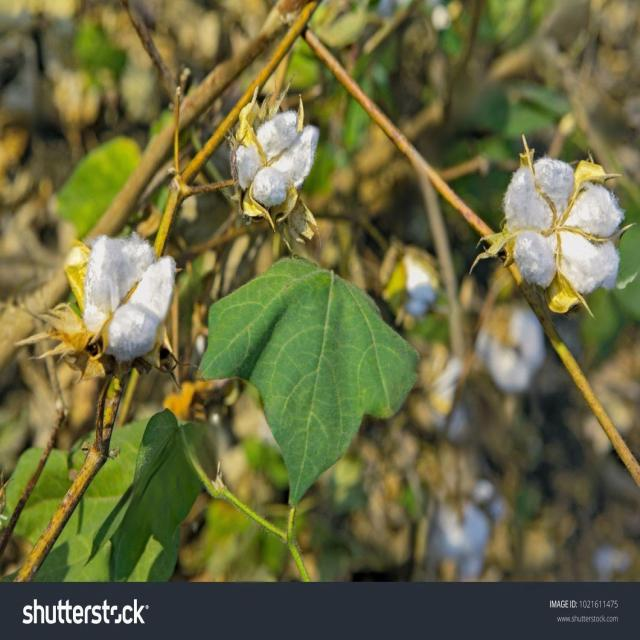Early_blight: (504, 151, 621, 295), (81, 238, 178, 350), (232, 105, 318, 206)
